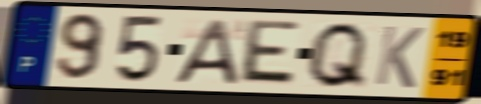5: (112, 13, 168, 85)
9: (54, 10, 107, 84)
A: (170, 17, 240, 86)
E: (235, 18, 302, 89)
K: (372, 23, 427, 91)
Q: (303, 20, 371, 91)
